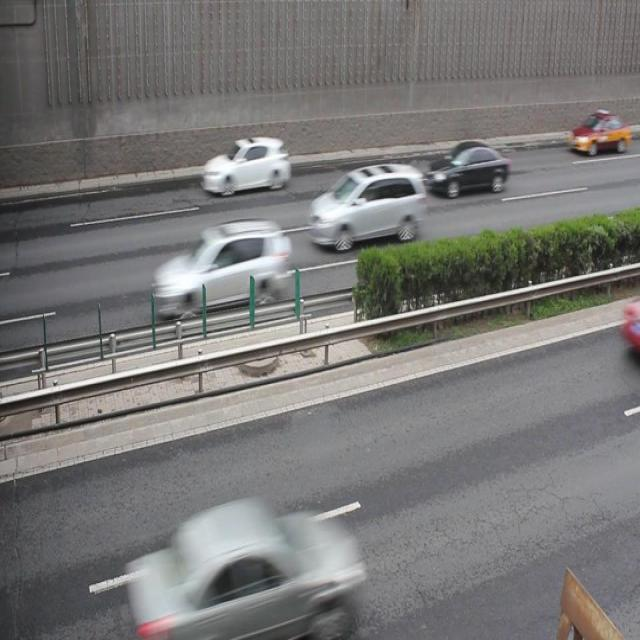car: (136, 494, 360, 640), (151, 217, 291, 315), (200, 133, 290, 195), (426, 138, 509, 199), (564, 109, 627, 158)
truck: (308, 160, 425, 250)
